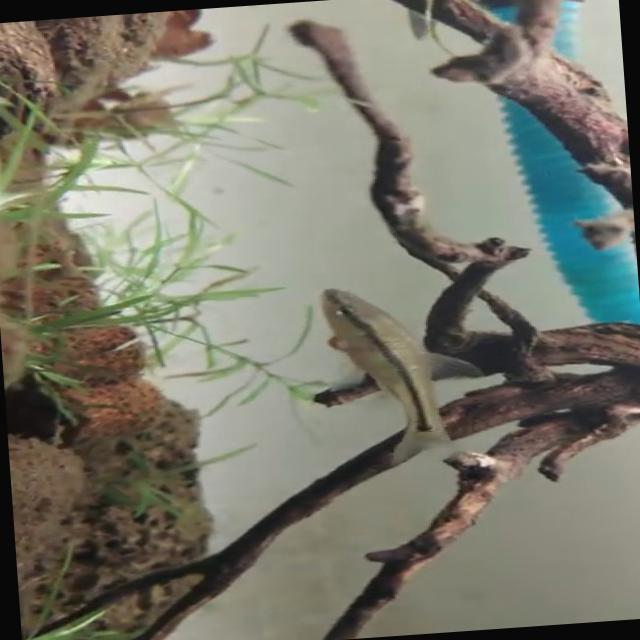Cakil Baligi: (306, 276, 494, 470)
